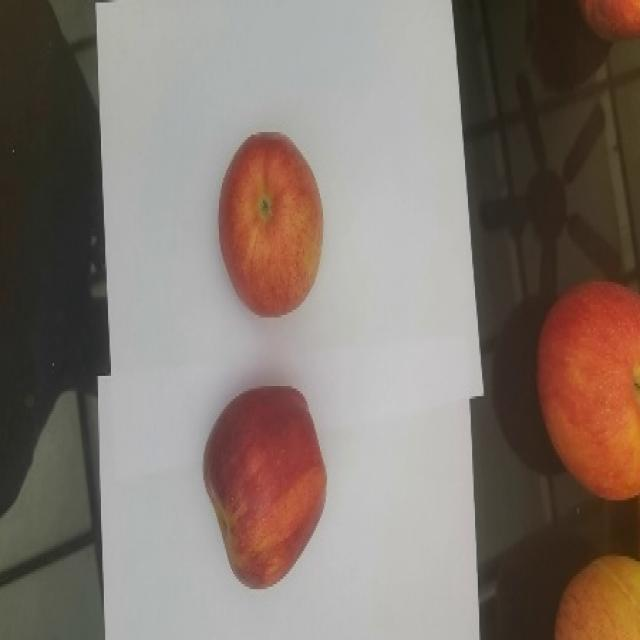Apple: (202, 385, 327, 589), (535, 278, 639, 501), (217, 130, 323, 317), (553, 553, 639, 639)
